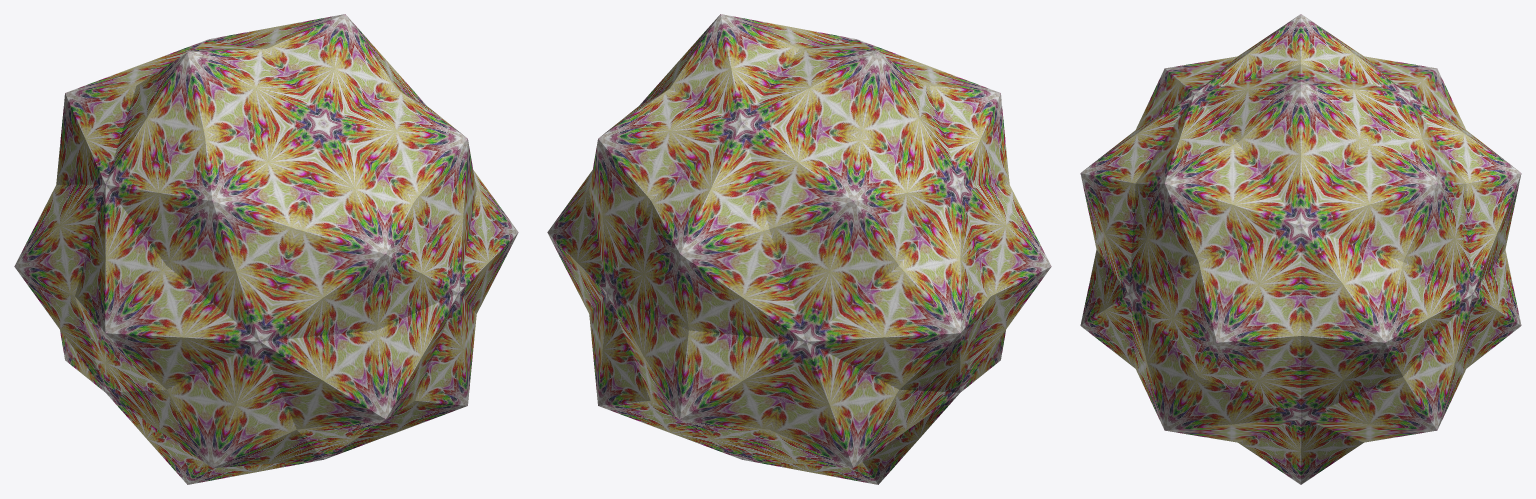
The model's file is SmallIcosacronicHexecontahedron5.obj.
3 renders of one model, left to right at view 1: azimuth 30°, elevation 25°; view 2: azimuth 150°, elevation 25°; view 3: azimuth 270°, elevation 25°, orthographic. The views are drawn at different scales.
Size of the model in its own units: 3.62 by 3.62 by 3.62.
Materials: 1 (1 with a texture image).
